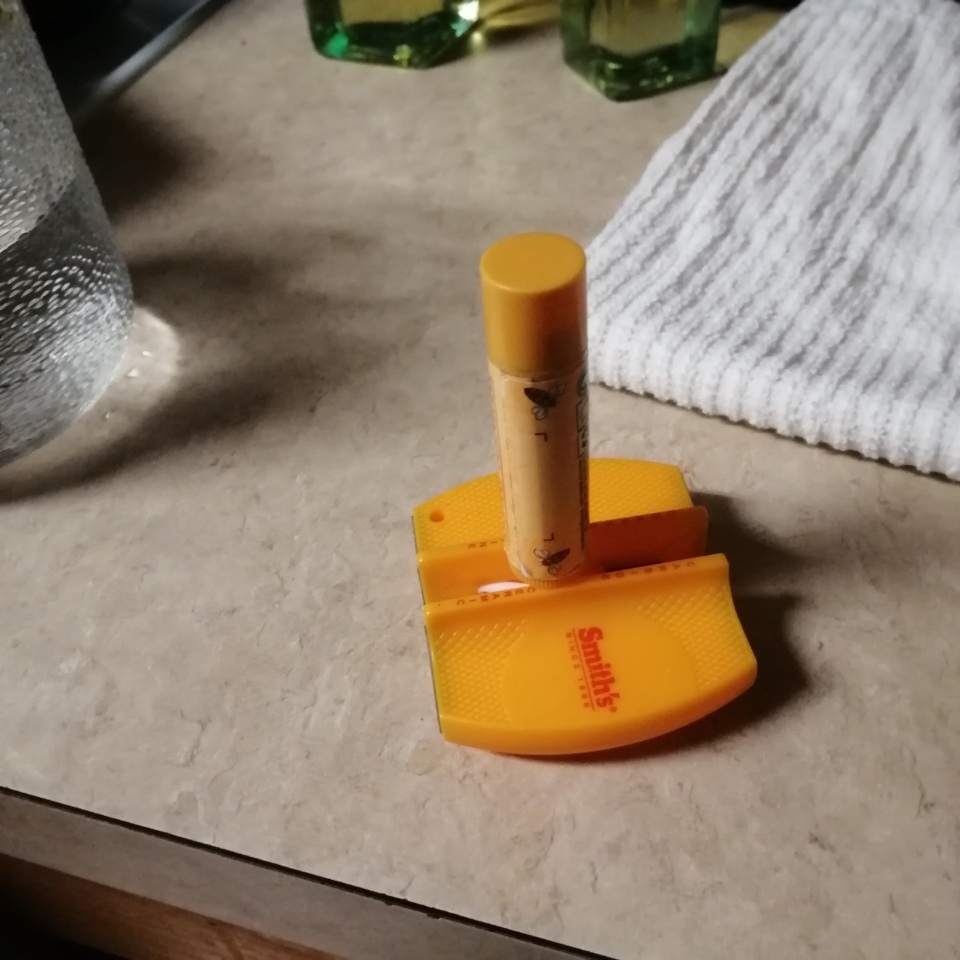chapstick: (479, 231, 592, 589)
